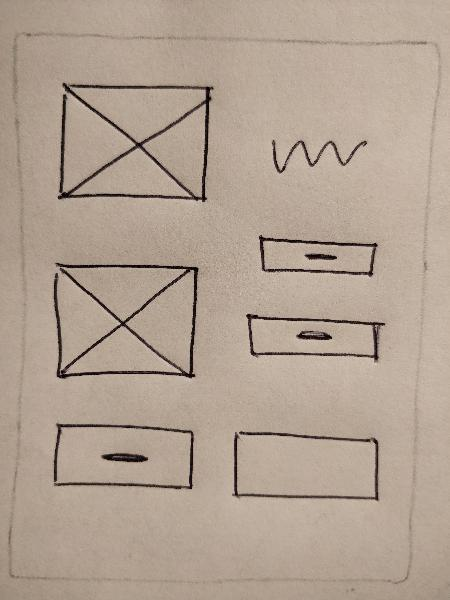button: (41, 417, 207, 501), (243, 308, 395, 371), (252, 226, 383, 287)
image: (47, 75, 219, 216), (41, 255, 203, 387)
text: (261, 126, 376, 192)
text_input: (227, 420, 387, 512)
